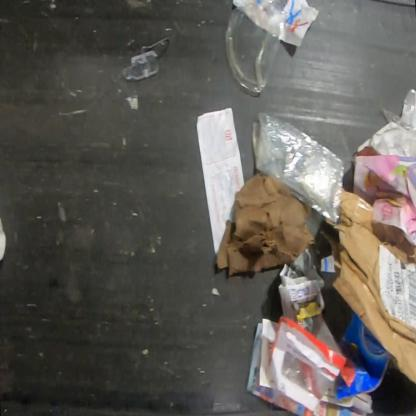cardboard: (323, 190, 415, 388)
rigid_plastic: (224, 0, 288, 98), (121, 36, 171, 82)
soft_plastic: (250, 111, 345, 225), (378, 87, 415, 160)
